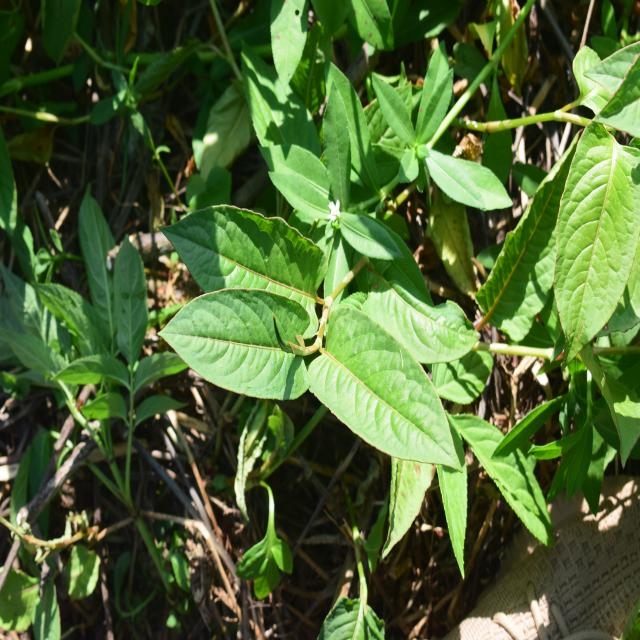Chinese_knotweed: (173, 196, 468, 476)
